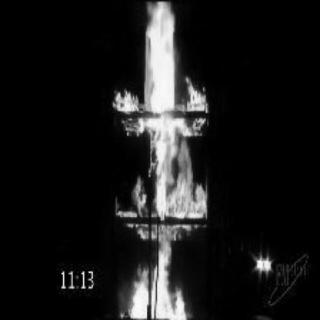Fire: (110, 3, 212, 317)
other: (248, 250, 274, 278)
